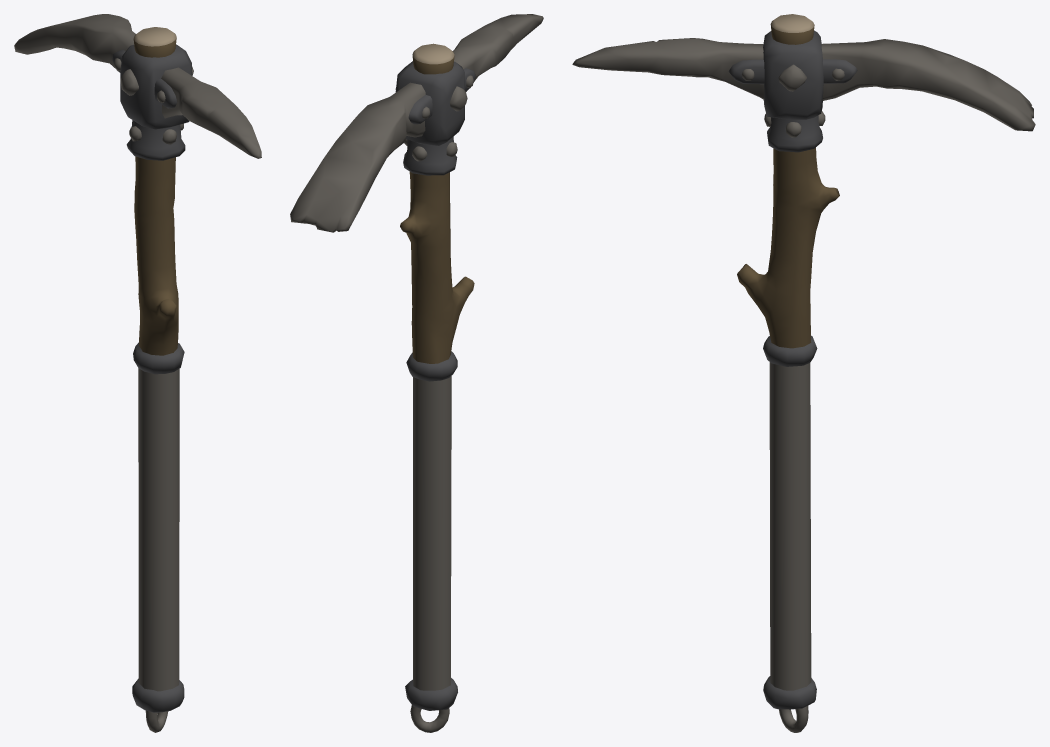
File: SM_Polygonal_Pickaxe.fbx
The picture shows the model from 3 angles, left to right: view 1: azimuth 30°, elevation 25°; view 2: azimuth 150°, elevation 25°; view 3: azimuth 270°, elevation 25°; orthographic projection. The views are drawn at different scales.
Visible parts, largest first — view 1: SM_Polygonal_Pickaxe; view 2: SM_Polygonal_Pickaxe; view 3: SM_Polygonal_Pickaxe.
Boxes of the visible parts, <box> form: SM_Polygonal_Pickaxe: <box>14,14,261,732</box>; SM_Polygonal_Pickaxe: <box>290,14,543,732</box>; SM_Polygonal_Pickaxe: <box>572,14,1035,732</box>.
Size of the model in its own units: 12.23 by 69.67 by 118.
1 material, 1 textured.
